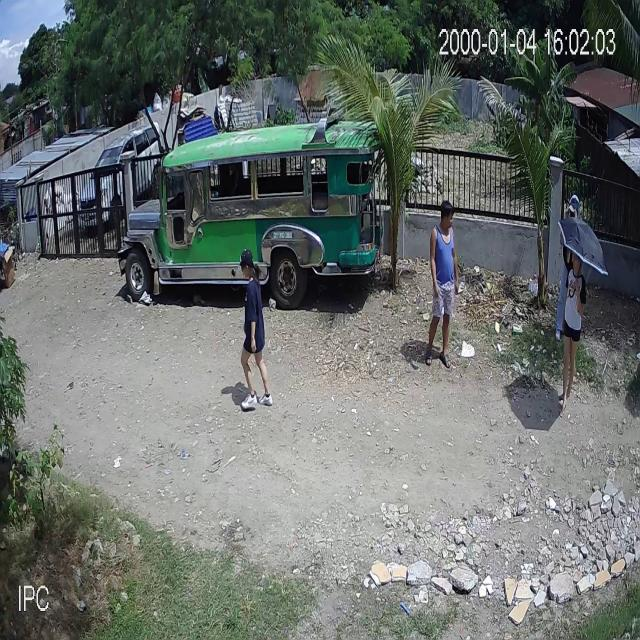standing: (554, 194, 586, 344)
walking: (426, 197, 464, 375), (240, 250, 275, 415), (554, 253, 588, 417)
